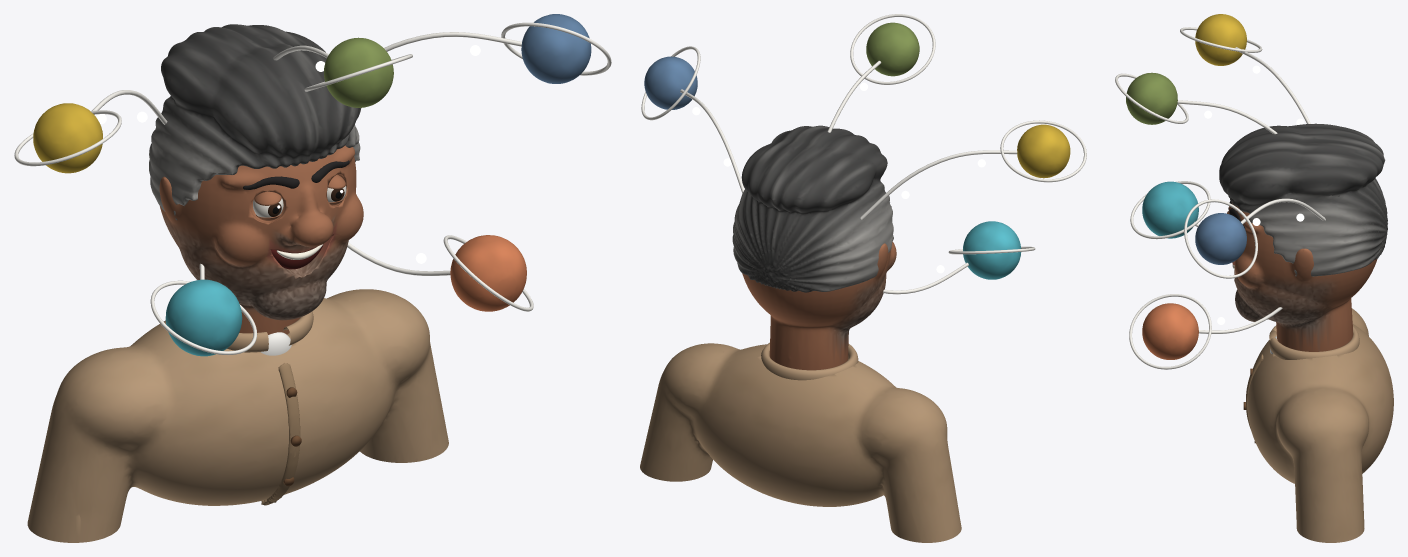
3 views of the same model, side by side, from view 1: azimuth 30°, elevation 25°; view 2: azimuth 150°, elevation 25°; view 3: azimuth 270°, elevation 25° (orthographic). The views are drawn at different scales.
Parts seen in each view (by area): view 1: shirt, hair, head, node-2, node-4, node-5, node-1, node-3, placket, collar, ring-2, ring-5 (+3 smaller); view 2: shirt, hair, head, node-2, node-1, node-3, node-5, collar, ring-3, ring-1, link-1; view 3: shirt, hair, head, node-4, node-2, node-5, node-3, node-1, collar, ring-4, ring-5, ring-2 (+6 smaller).
Boxes of the visible parts, left/top/right/bottom form: shirt: left=27, top=289, right=448, bottom=542; hair: left=149, top=24, right=361, bottom=220; head: left=159, top=145, right=363, bottom=334; node-2: left=165, top=279, right=242, bottom=356; node-4: left=450, top=235, right=526, bottom=311; node-5: left=521, top=14, right=591, bottom=83; node-1: left=33, top=103, right=102, bottom=173; node-3: left=324, top=37, right=393, bottom=107; placket: left=261, top=363, right=300, bottom=505; collar: left=227, top=311, right=313, bottom=352; ring-2: left=150, top=280, right=257, bottom=355; ring-5: left=501, top=22, right=611, bottom=75; shirt: left=640, top=343, right=961, bottom=542; hair: left=732, top=125, right=893, bottom=292; head: left=742, top=241, right=896, bottom=370; node-2: left=963, top=221, right=1021, bottom=279; node-1: left=1017, top=124, right=1070, bottom=178; node-3: left=866, top=22, right=919, bottom=76; node-5: left=644, top=56, right=697, bottom=109; collar: left=761, top=342, right=858, bottom=380; ring-3: left=850, top=14, right=935, bottom=84; ring-1: left=1000, top=120, right=1086, bottom=182; link-1: left=860, top=150, right=1017, bottom=219; shirt: left=1247, top=308, right=1393, bottom=542; hair: left=1219, top=123, right=1387, bottom=276; head: left=1227, top=202, right=1377, bottom=351; node-4: left=1142, top=303, right=1198, bottom=359; node-2: left=1142, top=181, right=1198, bottom=238; node-5: left=1195, top=213, right=1246, bottom=264; node-3: left=1126, top=72, right=1177, bottom=124; node-1: left=1195, top=14, right=1246, bottom=65; collar: left=1269, top=325, right=1359, bottom=359; ring-4: left=1129, top=294, right=1211, bottom=369; ring-5: left=1184, top=199, right=1257, bottom=278; ring-2: left=1130, top=181, right=1210, bottom=239.
Size of the model in its own units: 6.05 by 5.32 by 3.41.
